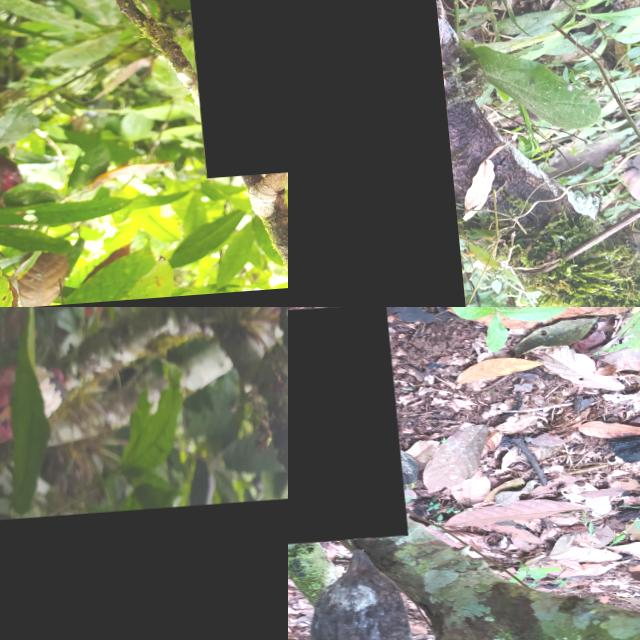Fitoftora: (168, 0, 288, 181), (288, 549, 424, 640)
Monilia: (288, 0, 459, 307), (0, 498, 288, 640), (288, 308, 402, 549)
